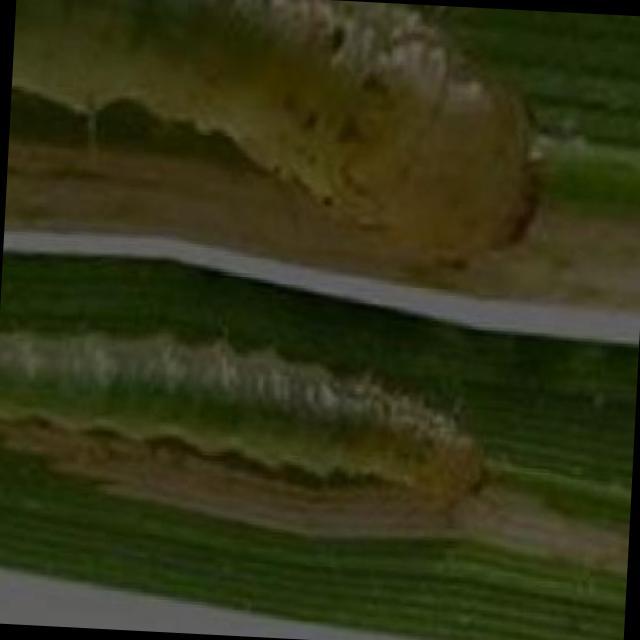leaf-folder: (2, 0, 535, 290), (0, 315, 510, 554)
